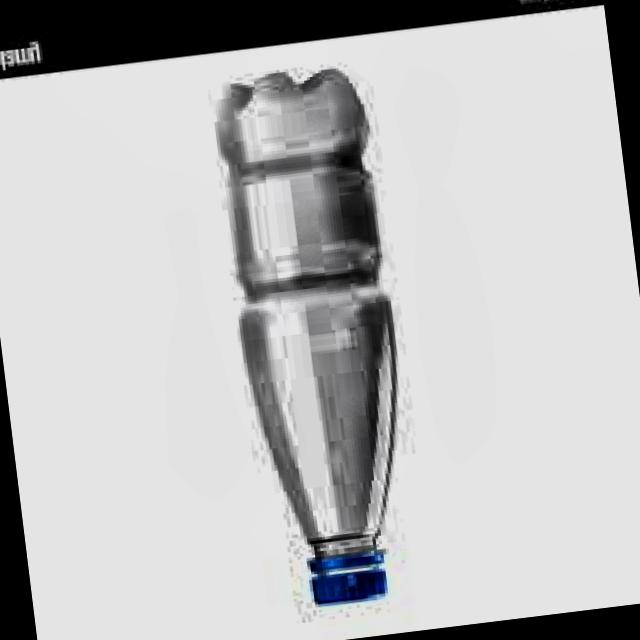plastic bottle: (220, 72, 396, 558)
